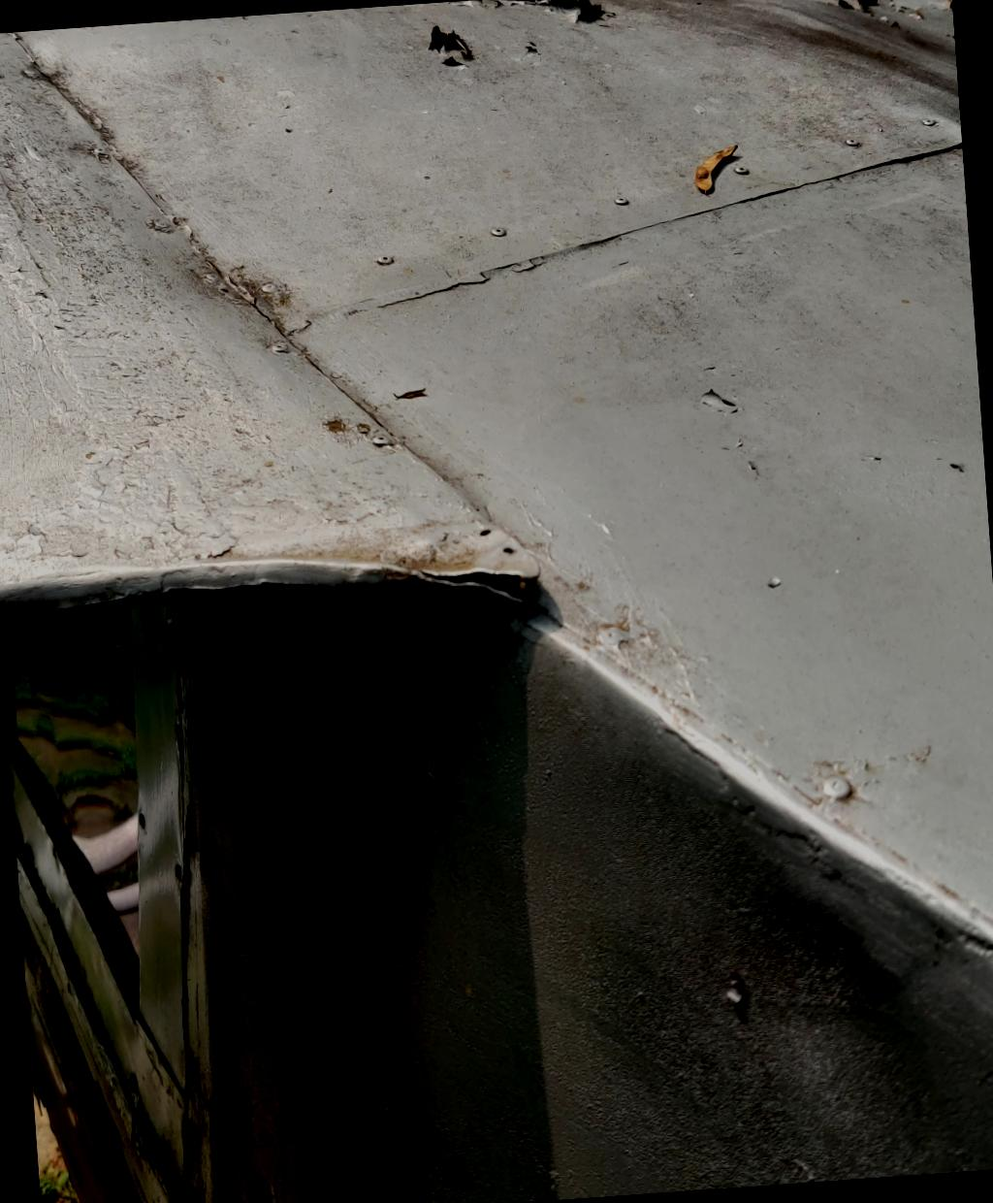crack: (393, 512, 576, 657)
